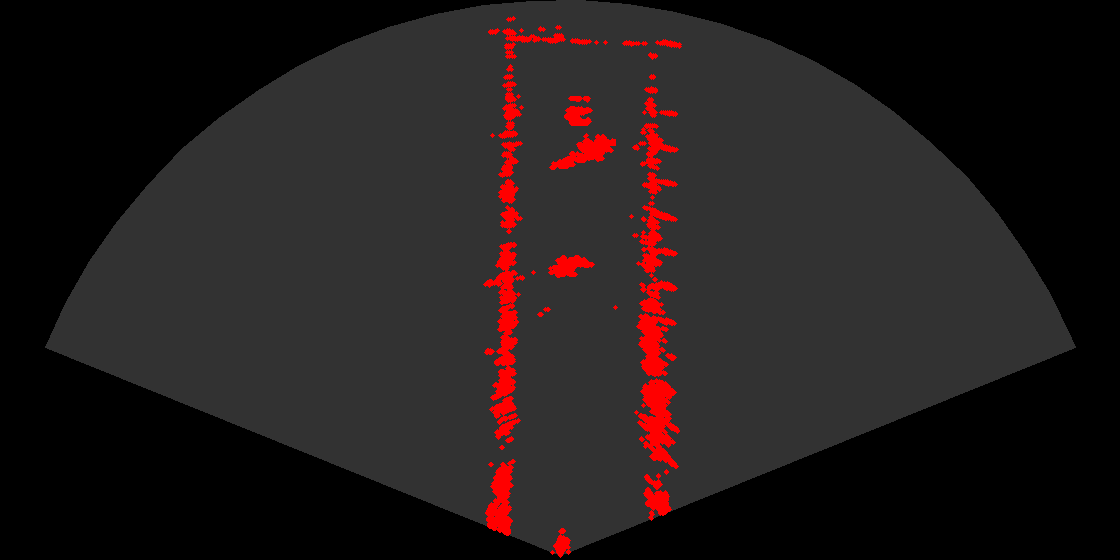AUV: (542, 253, 598, 285)
ball: (544, 88, 604, 129)
frogman: (548, 127, 616, 174)
